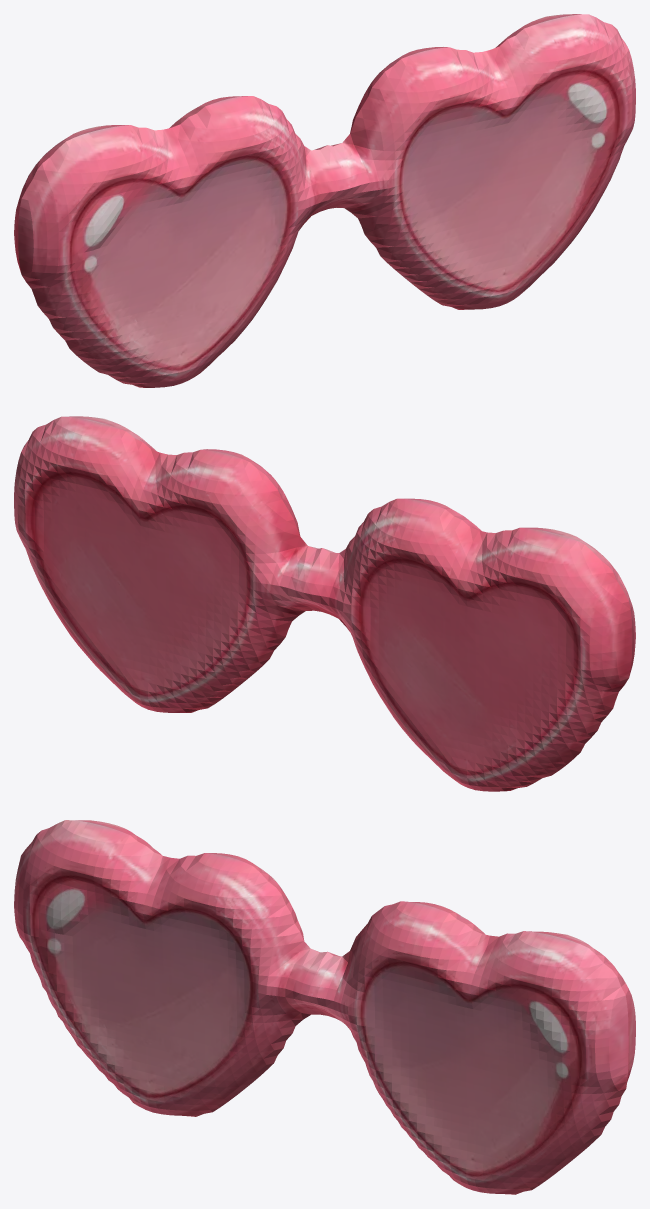
The model's file is heart_specs.glb.
3 renders of one model, top to bottom at view 1: azimuth 30°, elevation 25°; view 2: azimuth 150°, elevation 25°; view 3: azimuth 330°, elevation 25°, orthographic.
Visible parts, largest first — view 1: geometry_0; view 2: geometry_0; view 3: geometry_0.
Boxes of the visible parts, bbox=[...] form: geometry_0: bbox=[14, 14, 635, 387]; geometry_0: bbox=[14, 416, 635, 791]; geometry_0: bbox=[14, 820, 635, 1194].
Bounding box in the file's own units: 0.9818 × 0.4157 × 0.119.
1 material, 1 textured.
